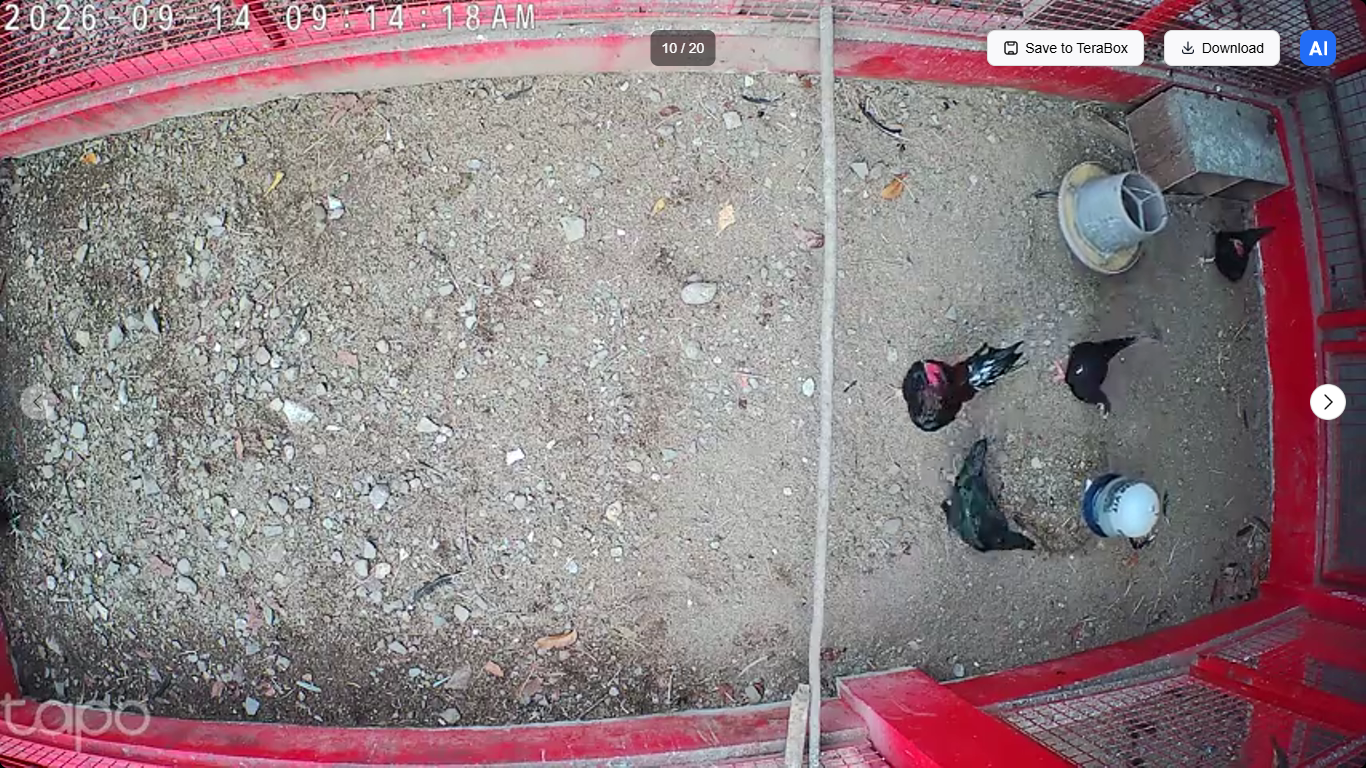Chicken: (1047, 334, 1143, 425)
Rooster: (899, 334, 1027, 434)
